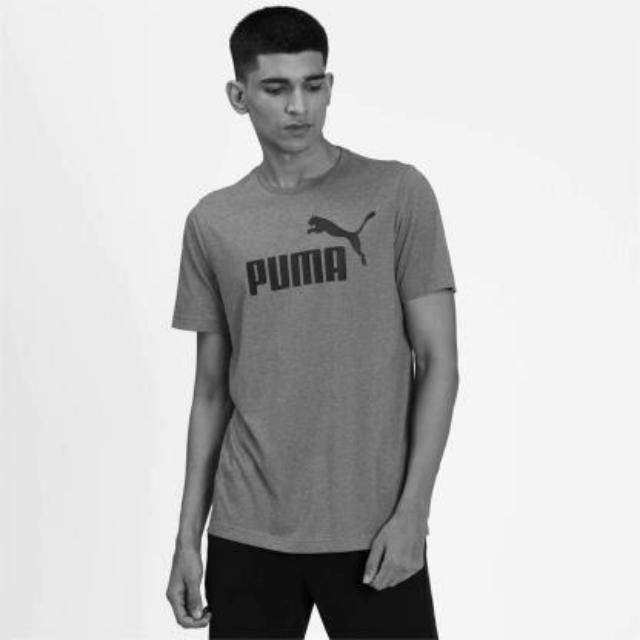PUMA_original: (232, 190, 386, 306)
